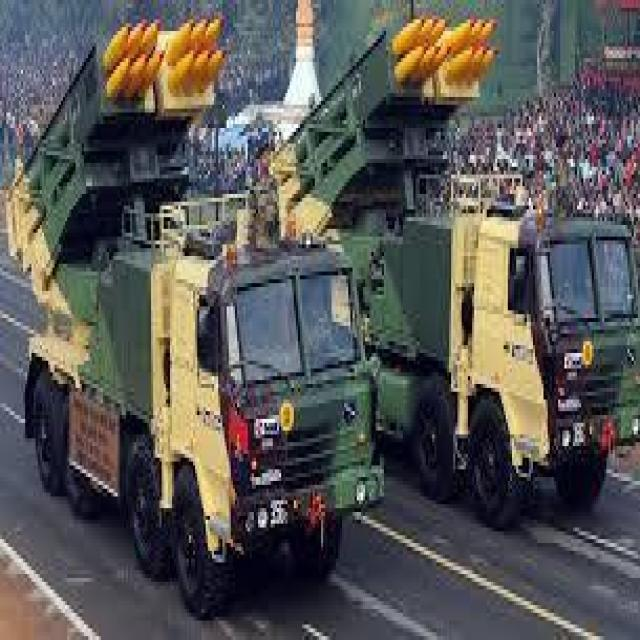MIL_MBT: (3, 23, 377, 601), (381, 10, 635, 526)
